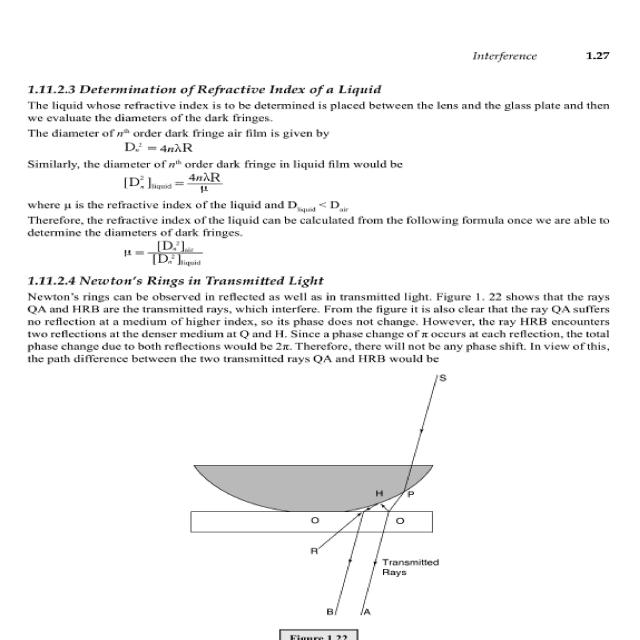diagram: (116, 372, 567, 640)
